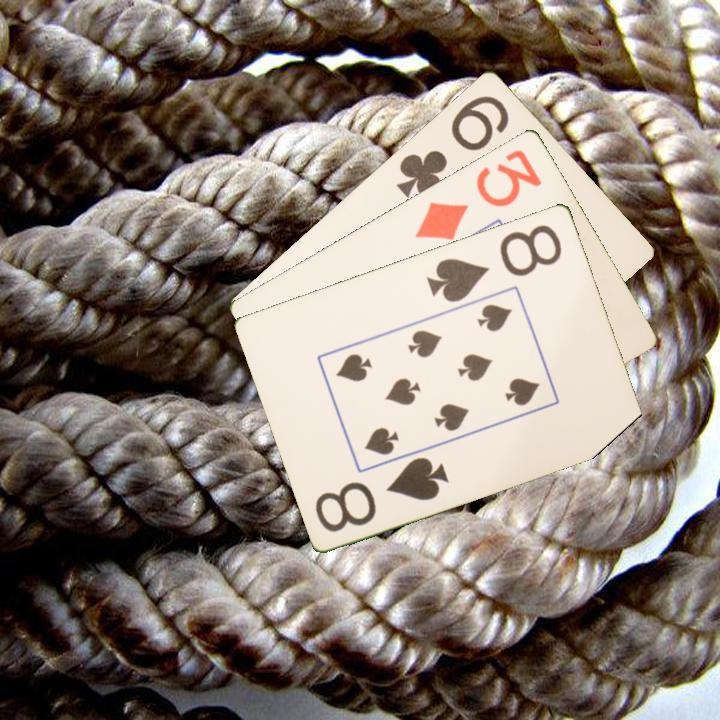3d: (411, 145, 545, 243)
6c: (392, 91, 512, 200)
8s: (423, 220, 565, 305), (312, 453, 452, 535)
